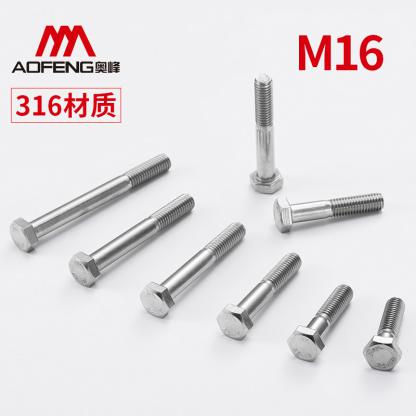FOD: (8, 152, 172, 254), (68, 192, 196, 288), (139, 218, 246, 320), (216, 250, 303, 341), (286, 283, 355, 363), (270, 190, 385, 233), (247, 73, 284, 193), (362, 295, 408, 373)
